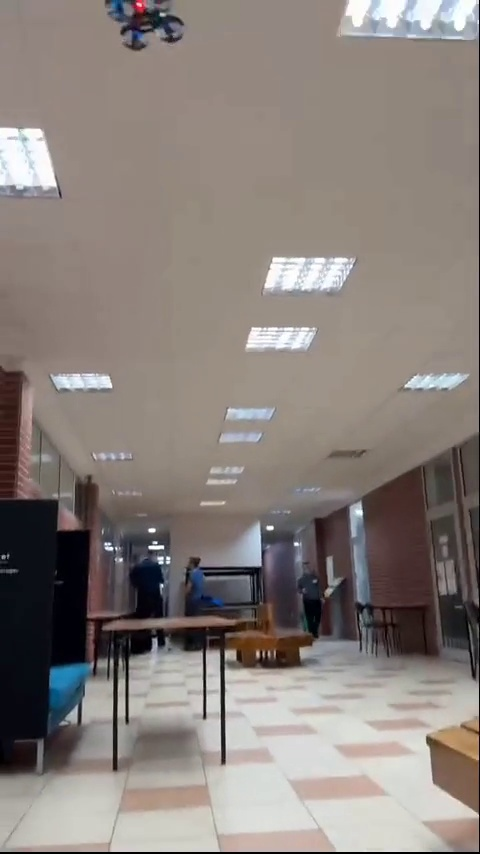drone: (111, 0, 188, 54)
no vest: (135, 544, 174, 650), (295, 554, 331, 647), (182, 556, 212, 617)
